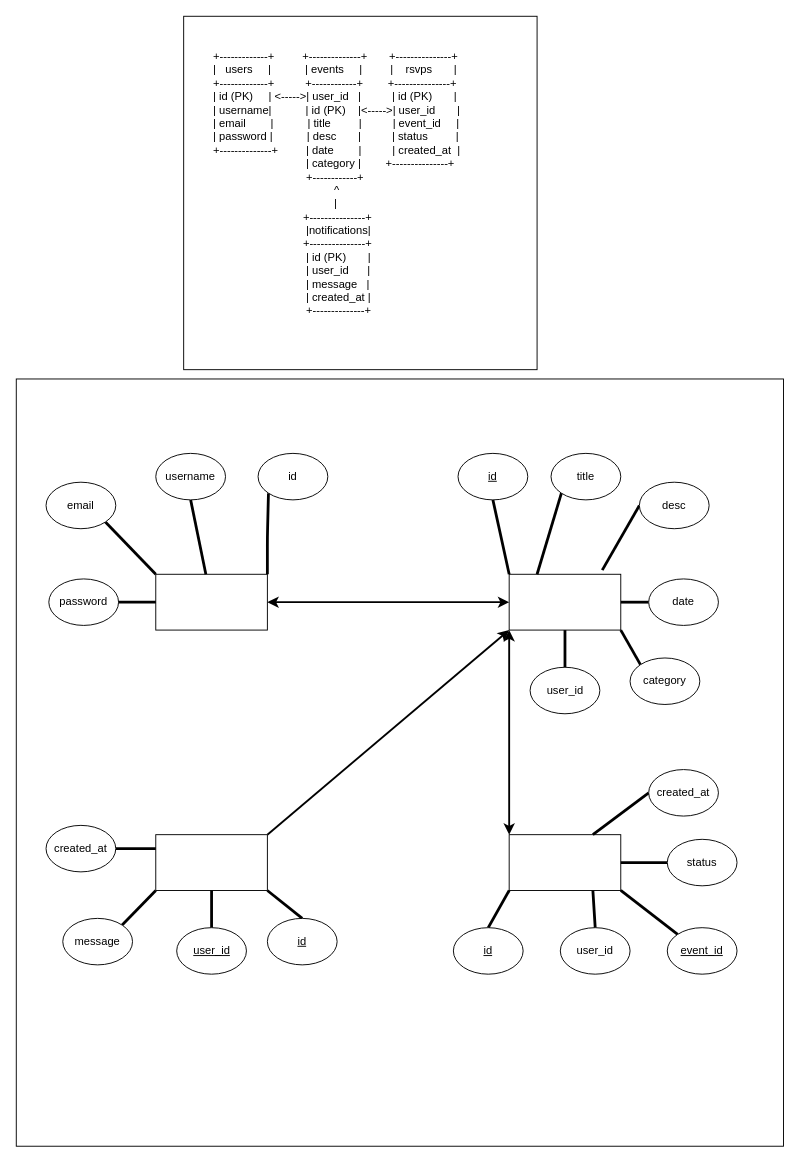
This 800x1163 diagram has some shape labels left out. Each missing label, with the box of its shape:
events: (508, 573, 621, 630)
notifications: (155, 834, 267, 890)
rsvps: (508, 834, 621, 890)
Users: (155, 573, 267, 630)
